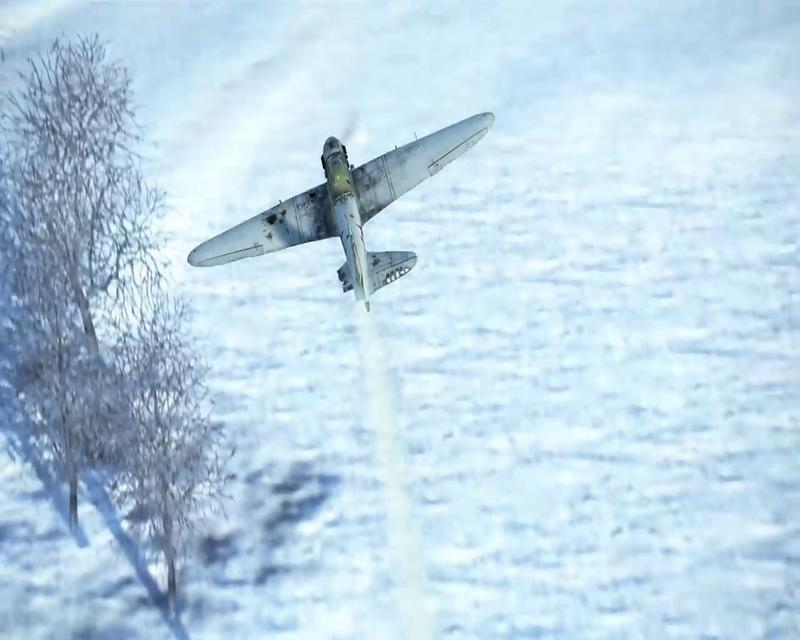UAV: (185, 109, 495, 312)
